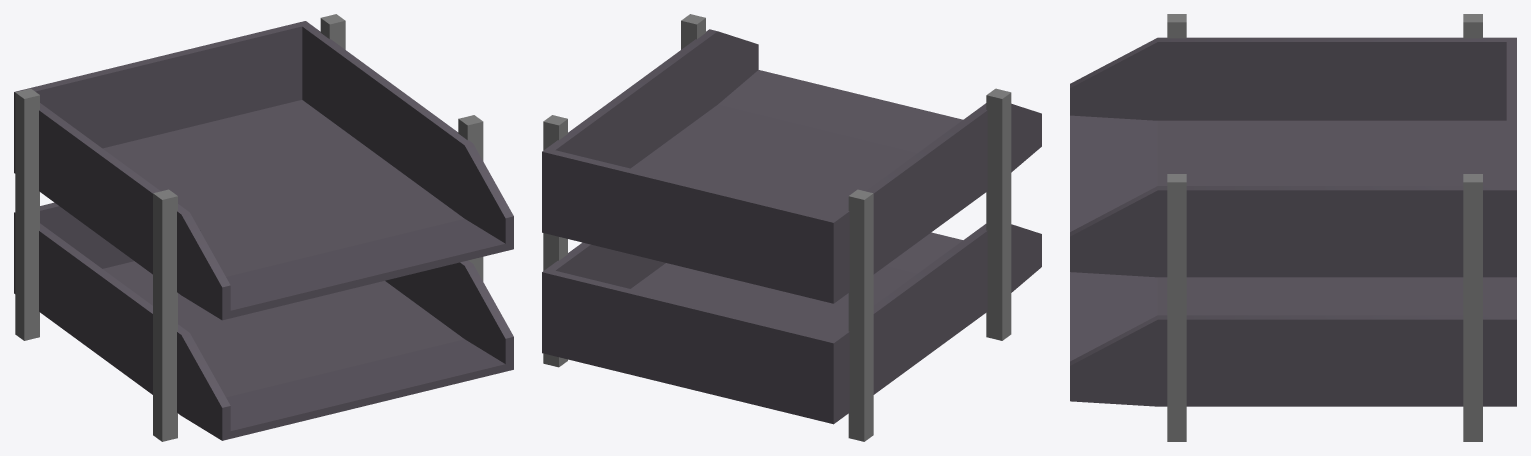
The model's file is paper_holder.fbx.
The picture shows the model from 3 angles, left to right: view 1: azimuth 30°, elevation 25°; view 2: azimuth 150°, elevation 25°; view 3: azimuth 270°, elevation 25°; orthographic projection. The views are drawn at different scales.
Parts seen in each view (by area): view 1: paper_holder; view 2: paper_holder; view 3: paper_holder.
Part boxes in pixels (<box>): paper_holder: <box>14,14,513,441</box>; paper_holder: <box>542,14,1041,441</box>; paper_holder: <box>1070,14,1516,441</box>.
Size of the model in its own units: 31.57 by 22.73 by 35.45.
